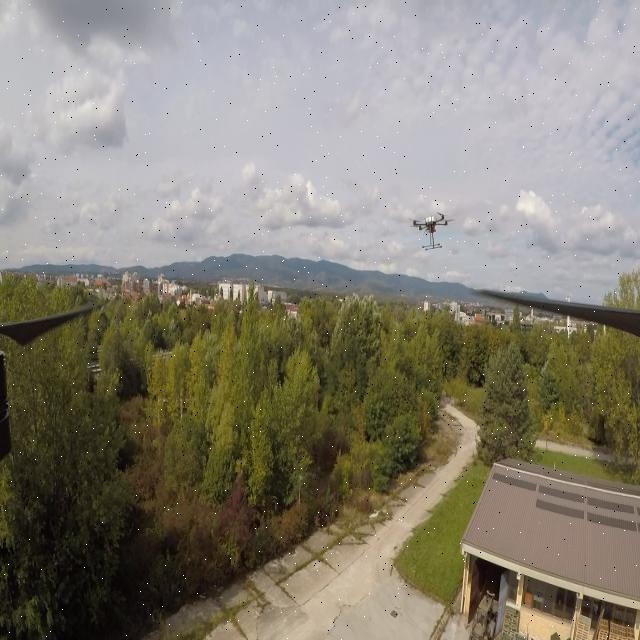UAV: (403, 208, 456, 252)
